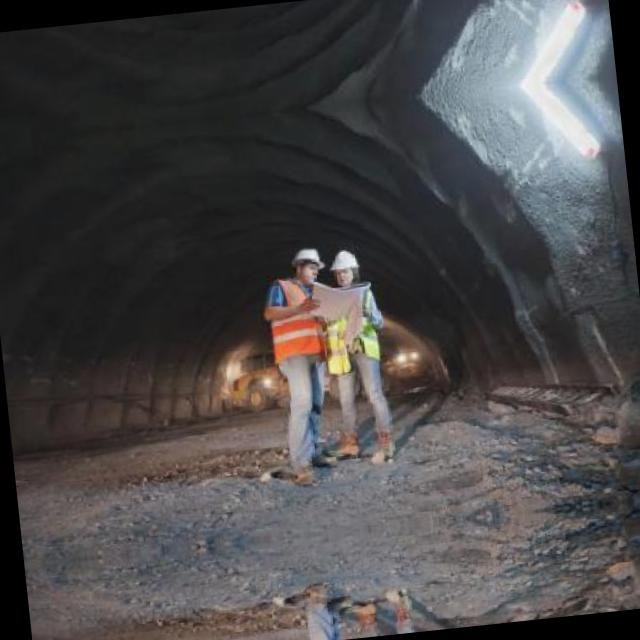helmet: (323, 244, 361, 289), (289, 242, 324, 284)
